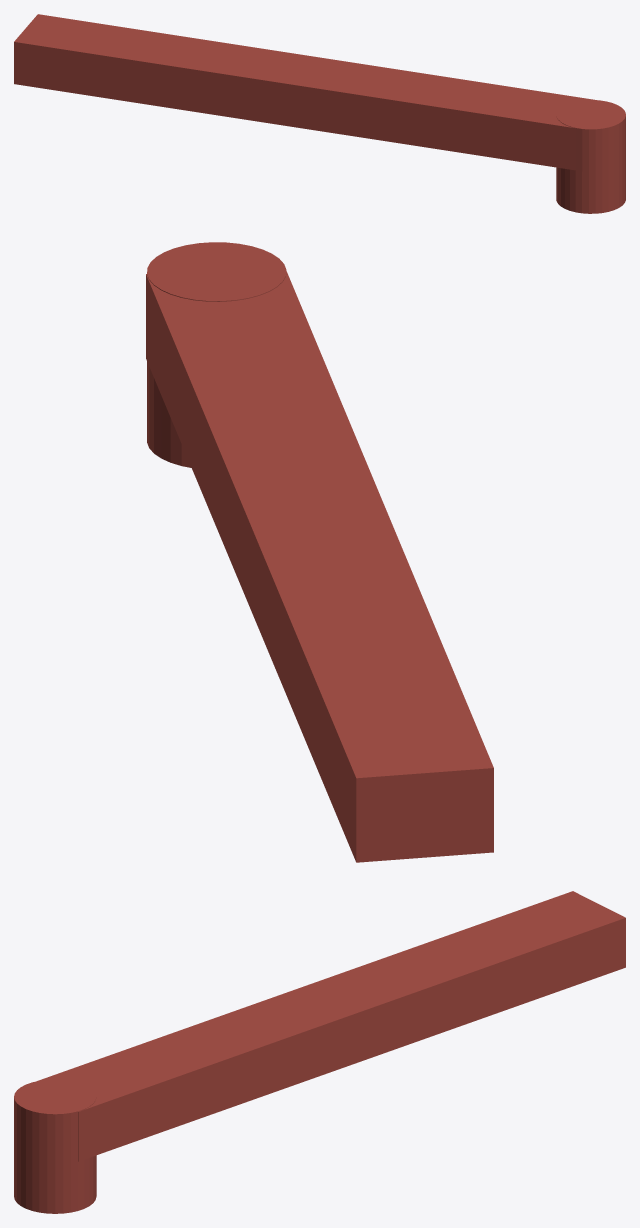
The picture shows the model from 3 angles, top to bottom: view 1: azimuth 30°, elevation 25°; view 2: azimuth 150°, elevation 25°; view 3: azimuth 270°, elevation 25°; orthographic projection. The views are drawn at different scales.
Parts seen in each view (by area): view 1: tmp_export_Cylinder.010; view 2: tmp_export_Cylinder.010; view 3: tmp_export_Cylinder.010.
Boxes of the visible parts, bbox=[...] form: tmp_export_Cylinder.010: bbox=[14, 14, 625, 213]; tmp_export_Cylinder.010: bbox=[146, 242, 493, 862]; tmp_export_Cylinder.010: bbox=[14, 891, 625, 1213].
Bounding box in the file's own units: 0.962 × 1.11 × 0.2.
